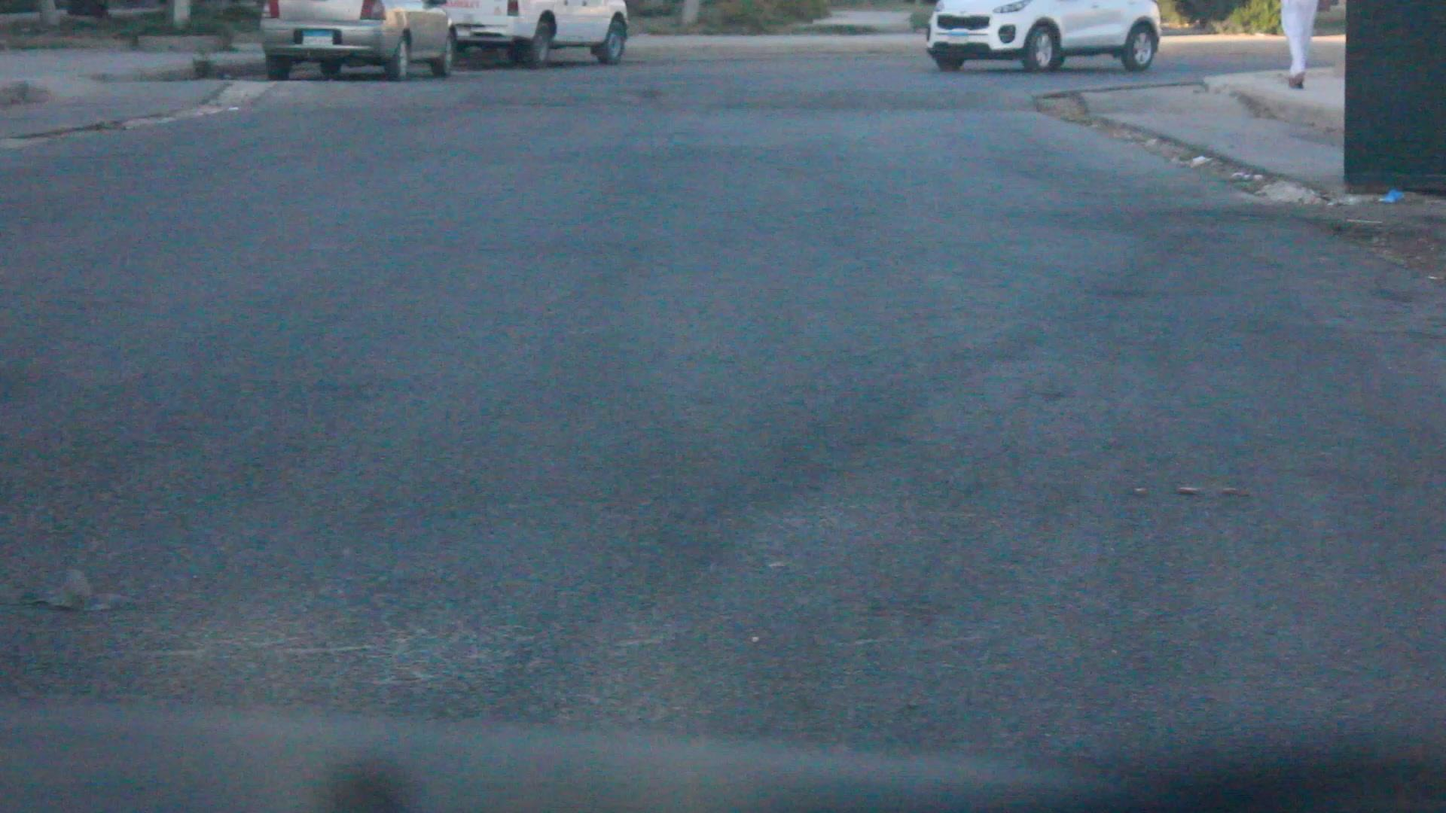Bump: (164, 67, 1057, 125)
